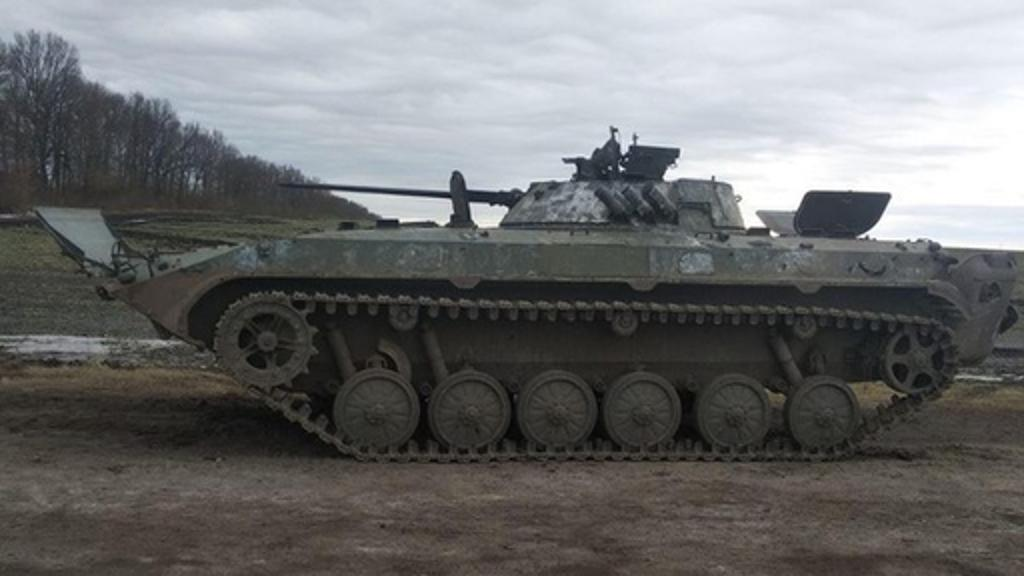APC-IFV: (28, 126, 1004, 478)
